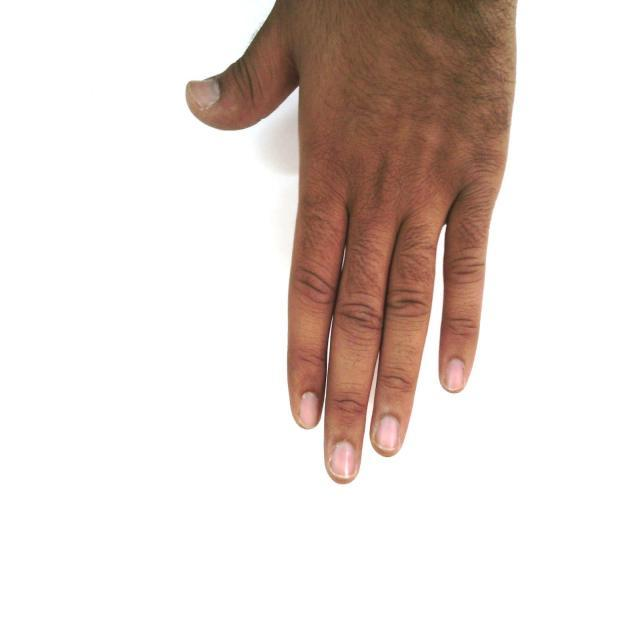Fingernail: (330, 441, 356, 477), (188, 79, 219, 109), (376, 416, 398, 450), (299, 393, 319, 428), (446, 359, 464, 390)
